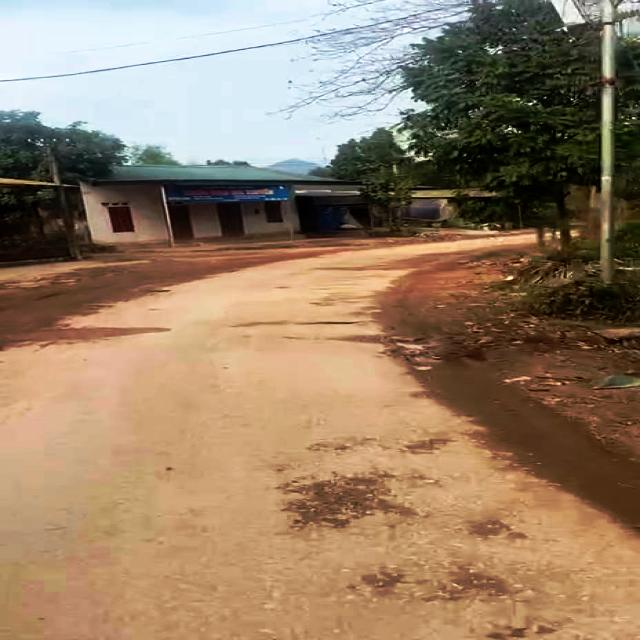pothole: (281, 474, 400, 531)
